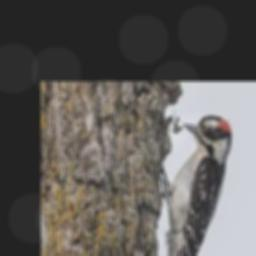Woodpecker: (160, 115, 233, 256)
